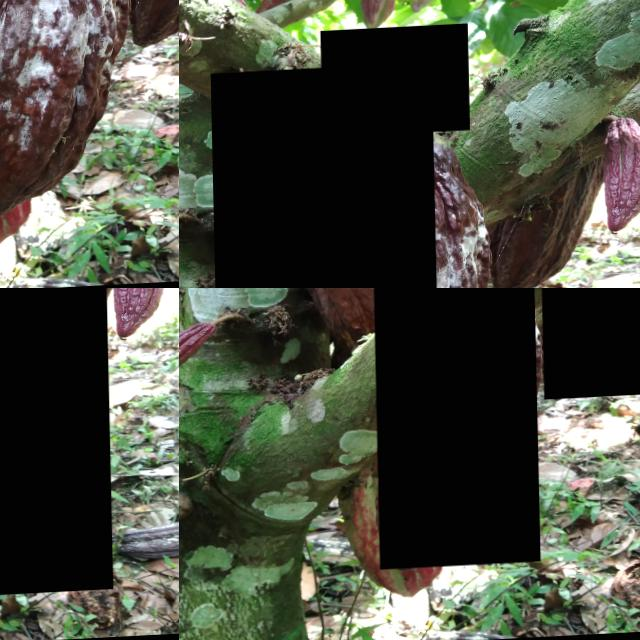Fitoftora: (421, 8, 640, 251), (0, 288, 110, 607), (539, 288, 640, 404), (292, 288, 392, 360)
Monilia: (209, 66, 436, 288), (372, 288, 537, 572)
Sana: (320, 28, 469, 141), (179, 316, 227, 387)
